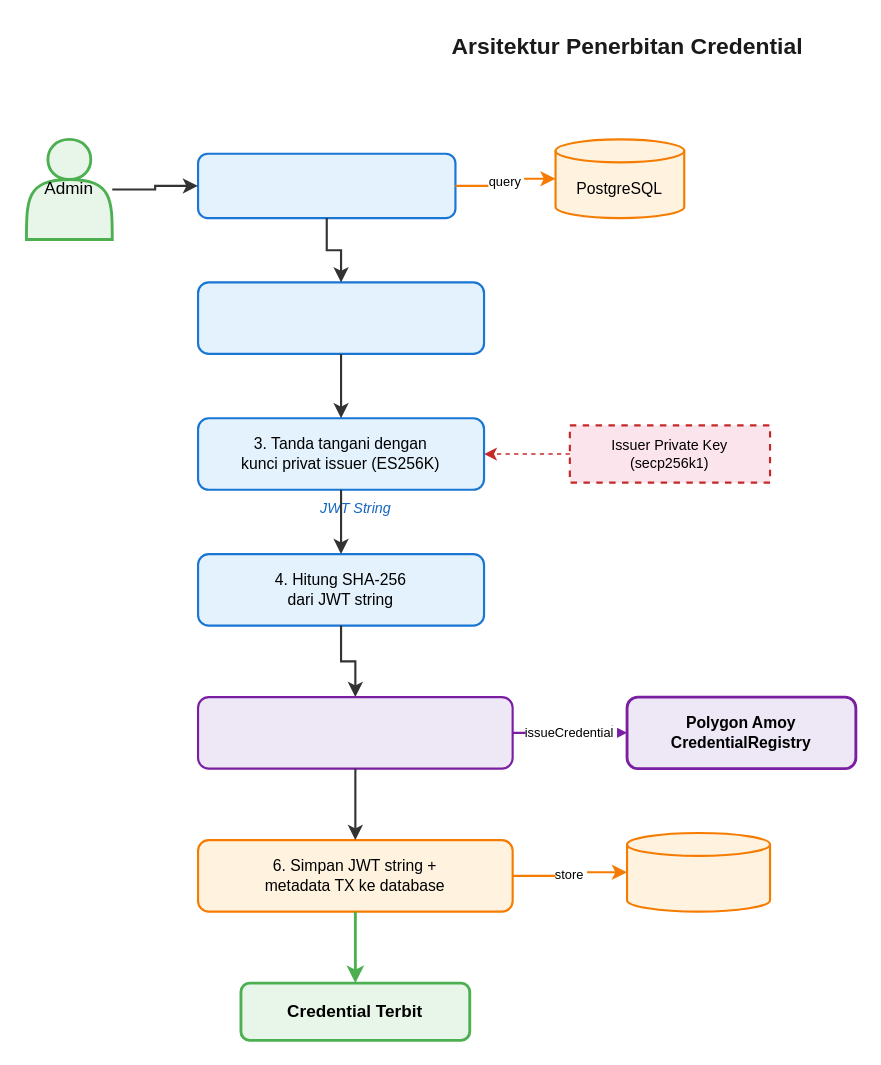
Image size: 881x1065. Some labels were removed from this diagram. The shapes that lost their labels are listed below. From the top down, each one's centre as x and y in pixels, then its label:
At (x=326, y=185): "1. Pilih data mahasiswa".
At (x=340, y=317): "2. Bentuk payload JWT-VC (W3C VC Data Model)".
At (x=354, y=732): "5. Catat ke Smart Contract (credentialId, hash, timestamps)".
At (x=697, y=871): "PostgreSQL (off-chain)".
